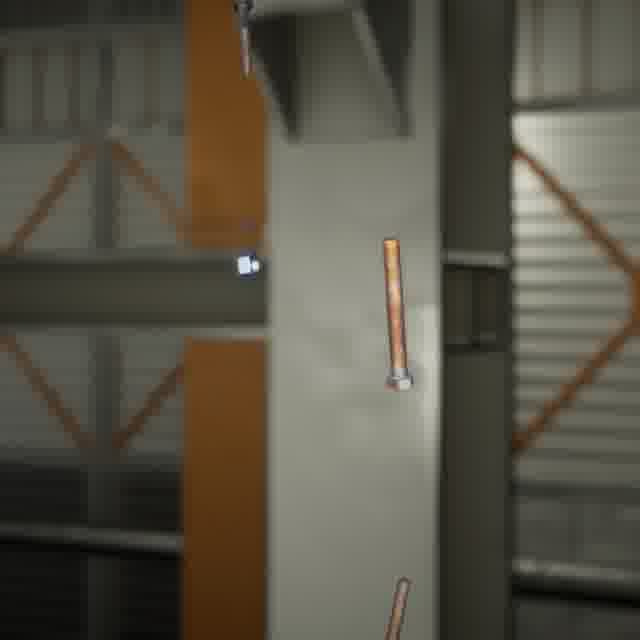bolt: (378, 232, 417, 394), (228, 0, 257, 82), (381, 572, 414, 640)
nut: (233, 244, 264, 286)
